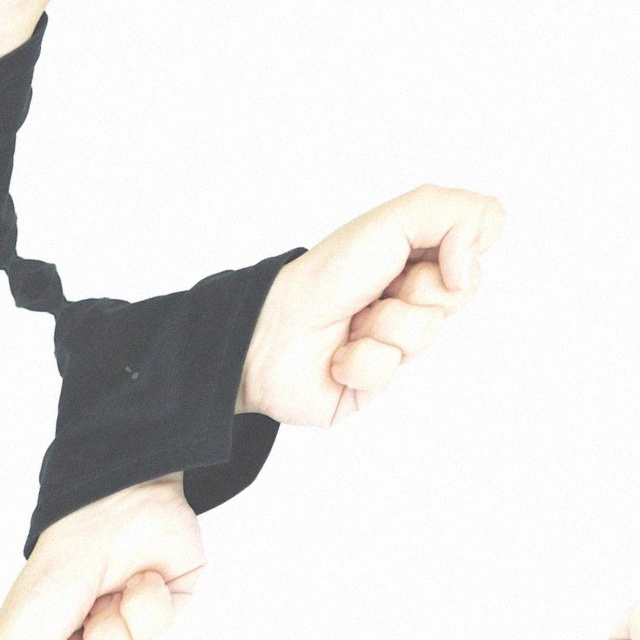Rock: (602, 0, 640, 38)
